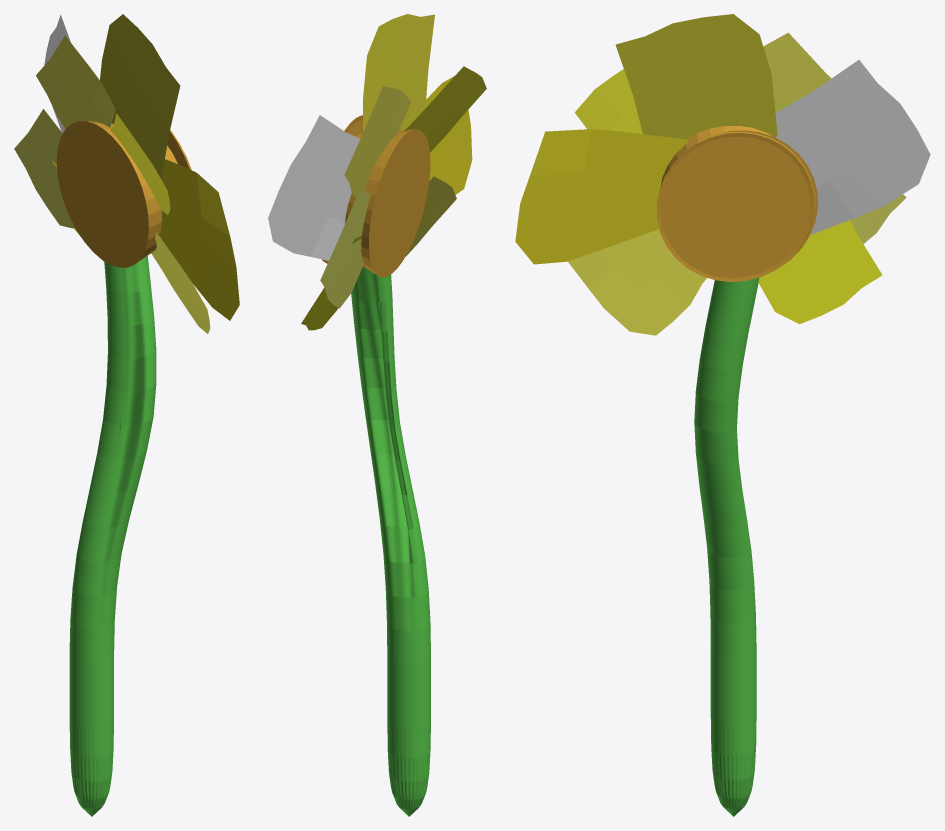
The model's file is florzinha.fbx.
3 views of the same model, side by side, from view 1: azimuth 30°, elevation 25°; view 2: azimuth 150°, elevation 25°; view 3: azimuth 270°, elevation 25° (orthographic). The views are drawn at different scales.
Visible parts, largest first — view 1: Cylinder, Cylinder.001, Cylinder.002, Cylinder.003, Cylinder.008, Cylinder.009, Cylinder.006, Cylinder.007, Cylinder.004; view 2: Cylinder, Cylinder.004, Cylinder.001, Cylinder.003, Cylinder.008, Cylinder.009, Cylinder.007, Cylinder.002, Cylinder.006, Cylinder.005; view 3: Cylinder, Cylinder.001, Cylinder.002, Cylinder.004, Cylinder.003, Cylinder.006, Cylinder.005, Cylinder.008, Cylinder.007, Cylinder.009.
Boxes of the visible parts, x1,y1,x2,y2 form: Cylinder: (69, 256, 156, 816); Cylinder.001: (56, 121, 191, 267); Cylinder.002: (159, 159, 239, 320); Cylinder.003: (100, 14, 180, 178); Cylinder.008: (36, 35, 115, 128); Cylinder.009: (14, 109, 74, 228); Cylinder.006: (151, 232, 210, 333); Cylinder.007: (110, 113, 170, 214); Cylinder.004: (44, 15, 70, 132); Cylinder: (351, 266, 430, 816); Cylinder.004: (268, 115, 360, 260); Cylinder.001: (322, 115, 430, 277); Cylinder.003: (363, 14, 434, 131); Cylinder.008: (344, 86, 410, 197); Cylinder.009: (320, 191, 371, 308); Cylinder.007: (404, 66, 486, 152); Cylinder.002: (425, 76, 472, 194); Cylinder.006: (405, 176, 456, 256); Cylinder.005: (301, 235, 362, 330); Cylinder: (694, 277, 759, 816); Cylinder.001: (656, 126, 817, 281); Cylinder.002: (515, 129, 687, 264); Cylinder.004: (775, 60, 930, 234); Cylinder.003: (615, 14, 777, 139); Cylinder.006: (568, 229, 706, 335); Cylinder.005: (758, 220, 882, 324); Cylinder.008: (763, 32, 831, 112); Cylinder.007: (574, 69, 642, 133); Cylinder.009: (850, 194, 906, 243).
Bounding box in the file's own units: 52.67 × 443 × 204.
